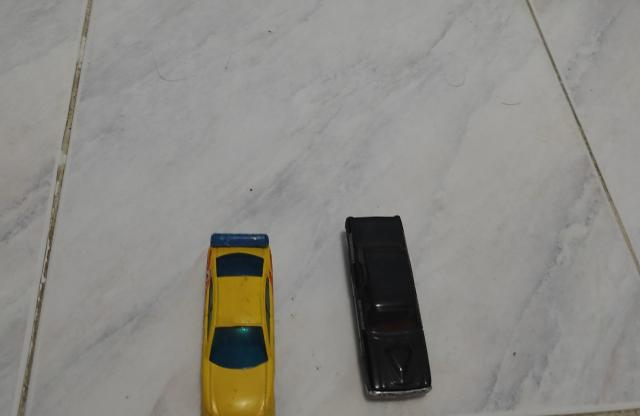01_FORD: (345, 215, 434, 403)
02_OZSOME: (200, 233, 277, 416)
